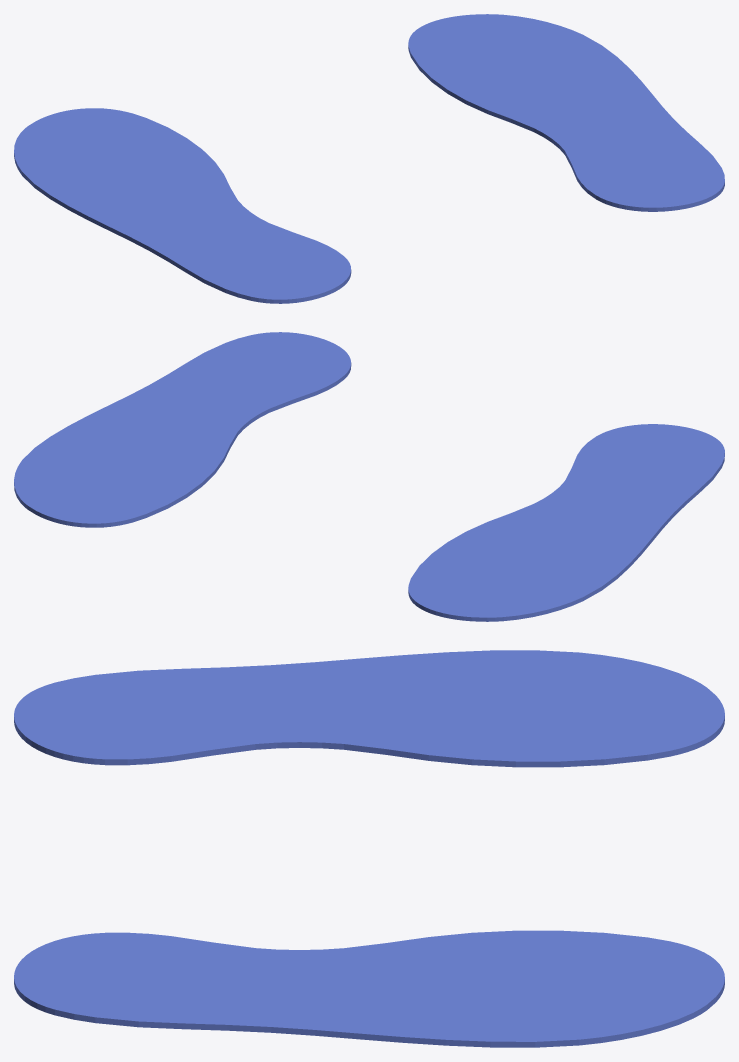
The model's file is feet_mark.glb.
The picture shows the model from 3 angles, top to bottom: view 1: azimuth 30°, elevation 25°; view 2: azimuth 150°, elevation 25°; view 3: azimuth 270°, elevation 25°; orthographic projection. The views are drawn at different scales.
Visible parts, largest first — view 1: object1; view 2: object1; view 3: object1.
Boxes of the visible parts, bbox=[...] form: object1: bbox=[14, 14, 724, 303]; object1: bbox=[14, 332, 724, 621]; object1: bbox=[14, 650, 724, 1047].
Bounding box in the file's own units: 0.3508 × 0.00243 × 0.2691.
